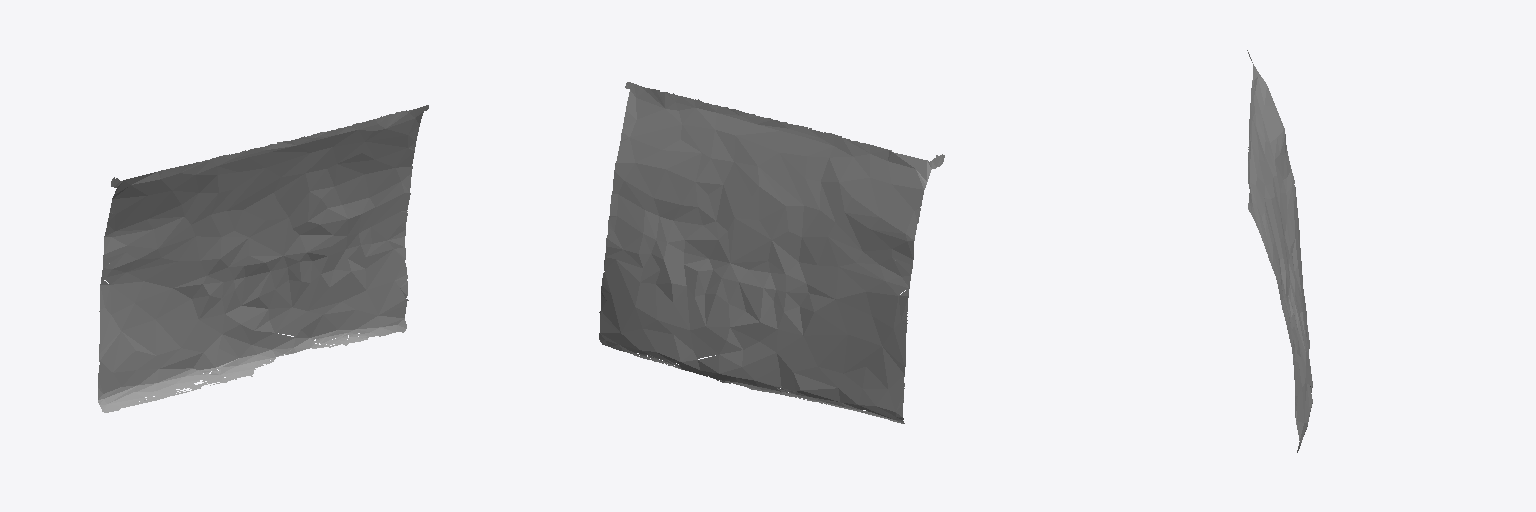
The model's file is blenderThree.obj.
3 renders of one model, left to right at view 1: azimuth 30°, elevation 25°; view 2: azimuth 150°, elevation 25°; view 3: azimuth 270°, elevation 25°, orthographic.
Visible parts, largest first — view 1: test; view 2: test; view 3: test.
Part boxes in pixels (bbox=[...]): test: bbox=[98, 105, 428, 412]; test: bbox=[599, 82, 944, 423]; test: bbox=[1247, 50, 1312, 452].
Size of the model in its own units: 115 by 88.15 by 20.44.